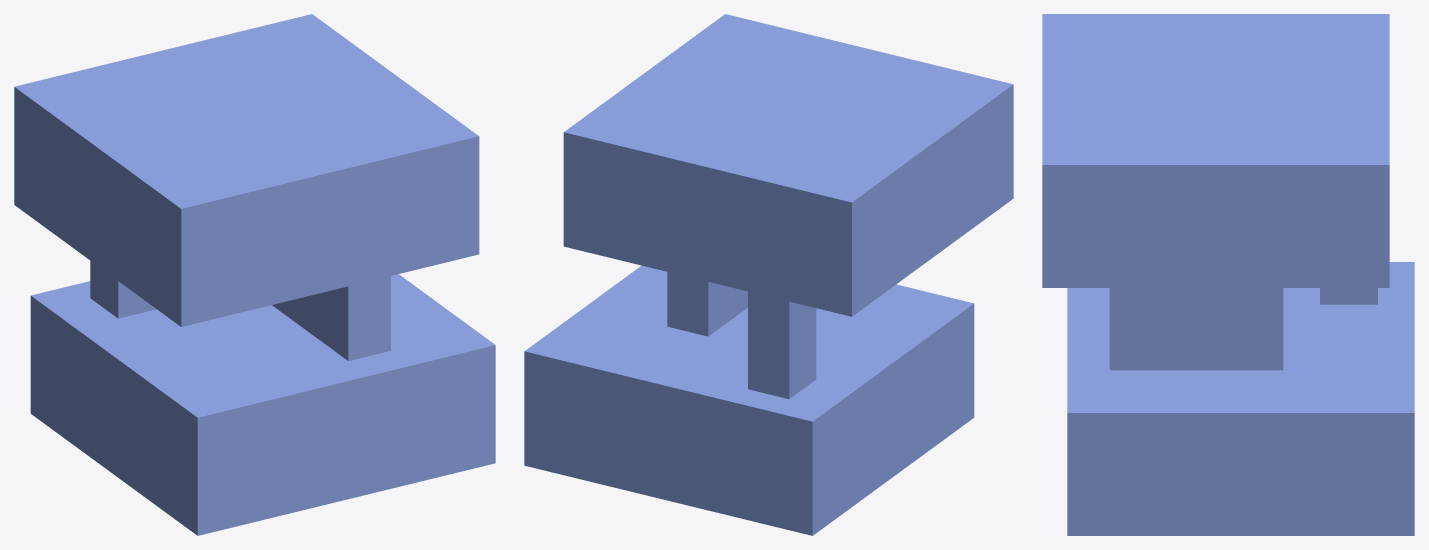
File: floor7.fbx
3 views of the same model, side by side, from view 1: azimuth 30°, elevation 25°; view 2: azimuth 150°, elevation 25°; view 3: azimuth 270°, elevation 25° (orthographic). The views are drawn at different scales.
Visible parts, largest first — view 1: Cube.021, Cube.022, Cube.023, Cube.040; view 2: Cube.021, Cube.022, Cube.040, Cube.023; view 3: Cube.021, Cube.022, Cube.023, Cube.040.
Boxes of the visible parts, <box> form: Cube.021: <box>14,14,479,326</box>; Cube.022: <box>30,274,495,535</box>; Cube.023: <box>272,276,390,360</box>; Cube.040: <box>90,261,156,318</box>; Cube.021: <box>563,14,1013,316</box>; Cube.022: <box>524,265,974,535</box>; Cube.040: <box>748,291,816,399</box>; Cube.023: <box>667,272,747,336</box>; Cube.021: <box>1042,14,1389,287</box>; Cube.022: <box>1067,262,1414,535</box>; Cube.023: <box>1109,288,1283,370</box>; Cube.040: <box>1320,288,1377,304</box>.
Size of the model in its own units: 101 by 101 by 95.93.
